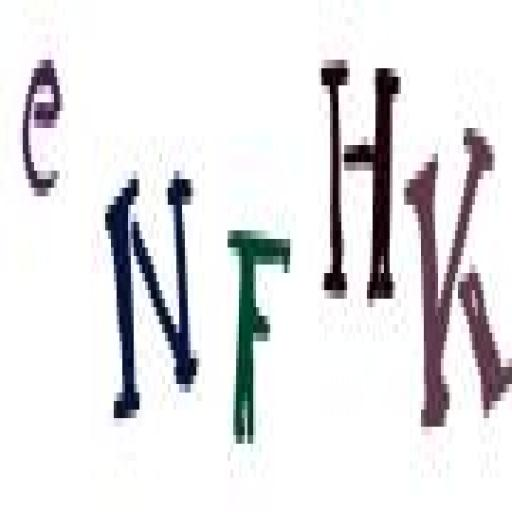F: (227, 214, 295, 454)
H: (320, 42, 402, 313)
K: (407, 104, 512, 440)
N: (101, 155, 200, 432)
e: (18, 38, 68, 209)
